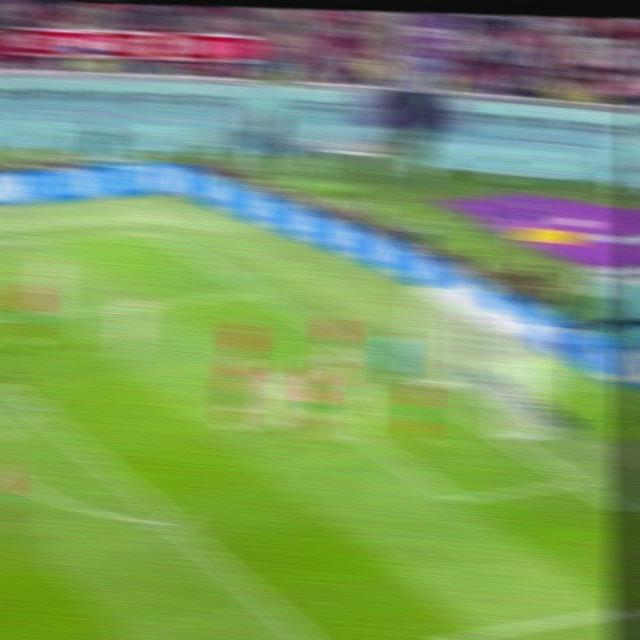bigarea_top_outter: (240, 279, 272, 304)
bottom_arc_area_intersection: (153, 507, 191, 539)
corner: (130, 222, 166, 239)
smallarea_bottom_inner: (436, 480, 477, 518)
smallarea_bottom_outter: (558, 467, 595, 496)
smallarea_top_inner: (240, 353, 270, 377)
smallarea_top_outter: (343, 340, 374, 364)
top_arc_area_intersection: (17, 394, 50, 420)
